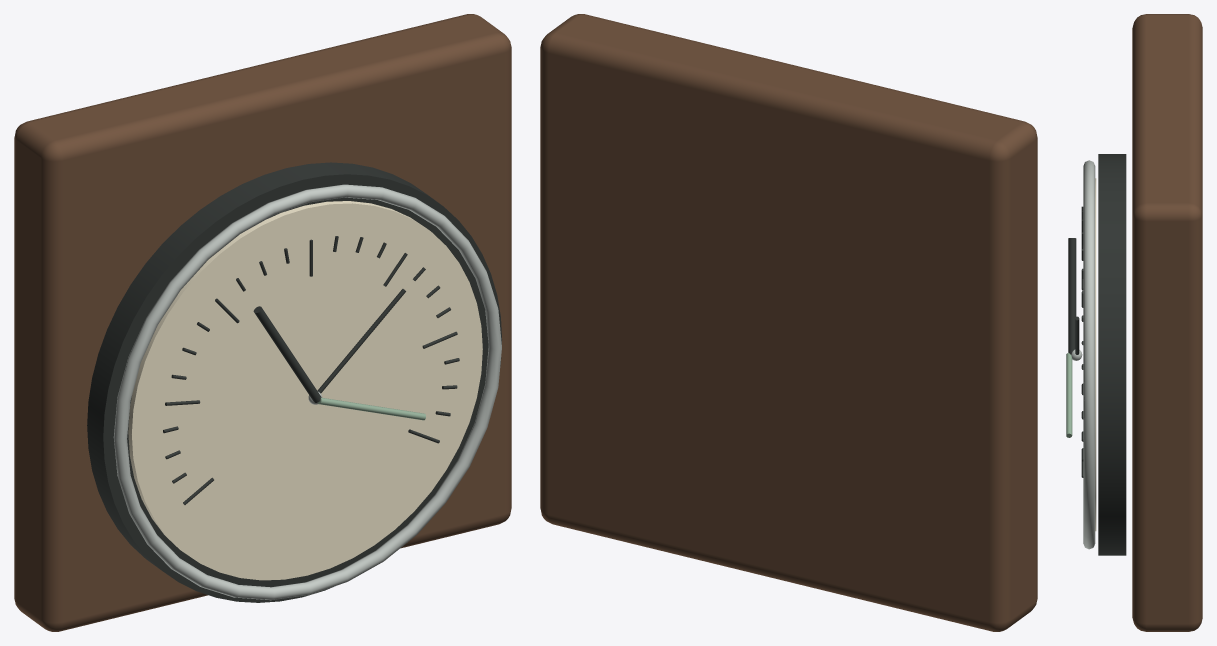
Rendered from abandoned-telephone-exchange-wall-exchange-clock-48d7d029__31989.glb.
3 views of the same model, side by side, from view 1: azimuth 30°, elevation 25°; view 2: azimuth 150°, elevation 25°; view 3: azimuth 270°, elevation 25° (orthographic). The views are drawn at different scales.
Visible parts, largest first — view 1: wall-exchange-clock; view 2: wall-exchange-clock; view 3: wall-exchange-clock.
Part boxes in pixels (x1=…): wall-exchange-clock: x1=14, y1=14, x2=511, y2=631; wall-exchange-clock: x1=540, y1=14, x2=1037, y2=631; wall-exchange-clock: x1=1066, y1=14, x2=1202, y2=631.
Size of the model in its own units: 0.47 by 0.47 by 0.136.
